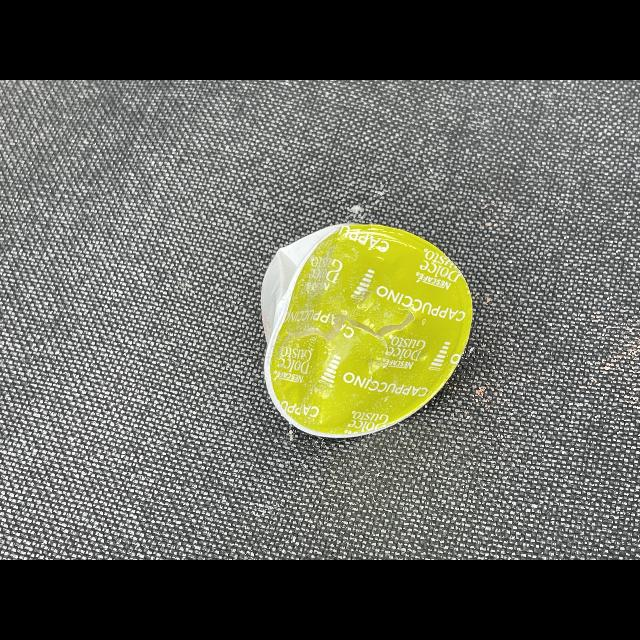damaged_capsule: (235, 211, 488, 444)
